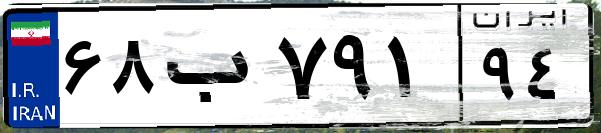1: (385, 28, 445, 110)
4: (525, 38, 570, 115)
6: (57, 26, 110, 100)
7: (270, 28, 330, 110)
8: (110, 28, 158, 98)
9: (330, 28, 385, 110), (475, 38, 525, 113)
ب: (158, 20, 270, 120)
